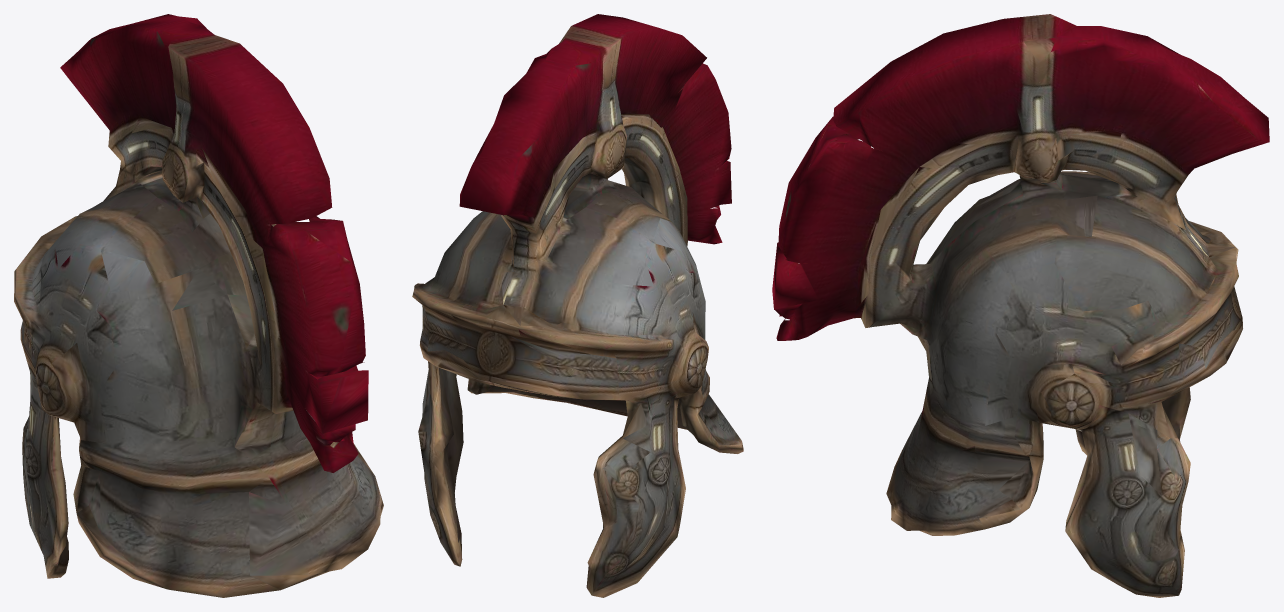
Rendered from galea.glb.
3 views of the same model, side by side, from view 1: azimuth 30°, elevation 25°; view 2: azimuth 150°, elevation 25°; view 3: azimuth 270°, elevation 25° (orthographic). The views are drawn at different scales.
Parts seen in each view (by area): view 1: galea; view 2: galea; view 3: galea.
Part boxes in pixels (bbox=[...]): galea: bbox=[14, 14, 383, 597]; galea: bbox=[412, 14, 743, 597]; galea: bbox=[772, 14, 1269, 597].
Bounding box in the file's own units: 0.292 × 0.5367 × 0.4503.
Materials: 1 (1 with a texture image).
